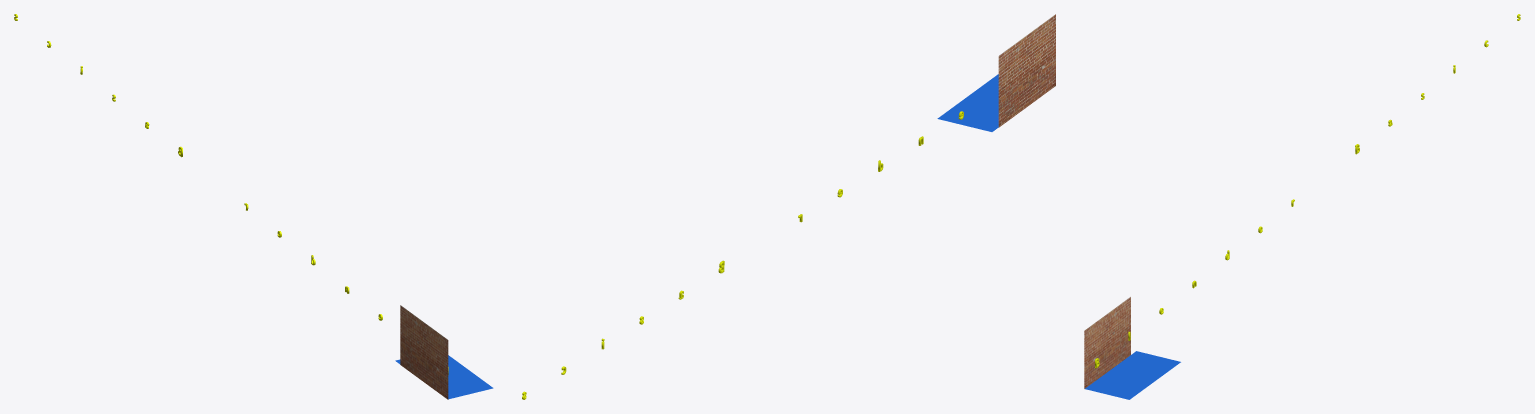
The picture shows the model from 3 angles, left to right: view 1: azimuth 30°, elevation 25°; view 2: azimuth 150°, elevation 25°; view 3: azimuth 330°, elevation 25°; orthographic projection. The views are drawn at different scales.
Visible parts, largest first — view 1: загружено (1), Plane; view 2: загружено (1), Plane, Text; view 3: загружено (1), Plane, Text.
Part boxes in pixels (left/top/right/bottom): загружено (1): left=400, top=305, right=448, bottom=399; Plane: left=395, top=355, right=493, bottom=399; загружено (1): left=998, top=14, right=1055, bottom=127; Plane: left=937, top=74, right=998, bottom=131; Text: left=522, top=111, right=963, bottom=399; загружено (1): left=1084, top=297, right=1130, bottom=388; Plane: left=1085, top=351, right=1180, bottom=399; Text: left=1095, top=14, right=1520, bottom=368.
Bounding box in the file's own units: 4 × 5.31 × 66.31.
Materials: 3 (1 with a texture image).
